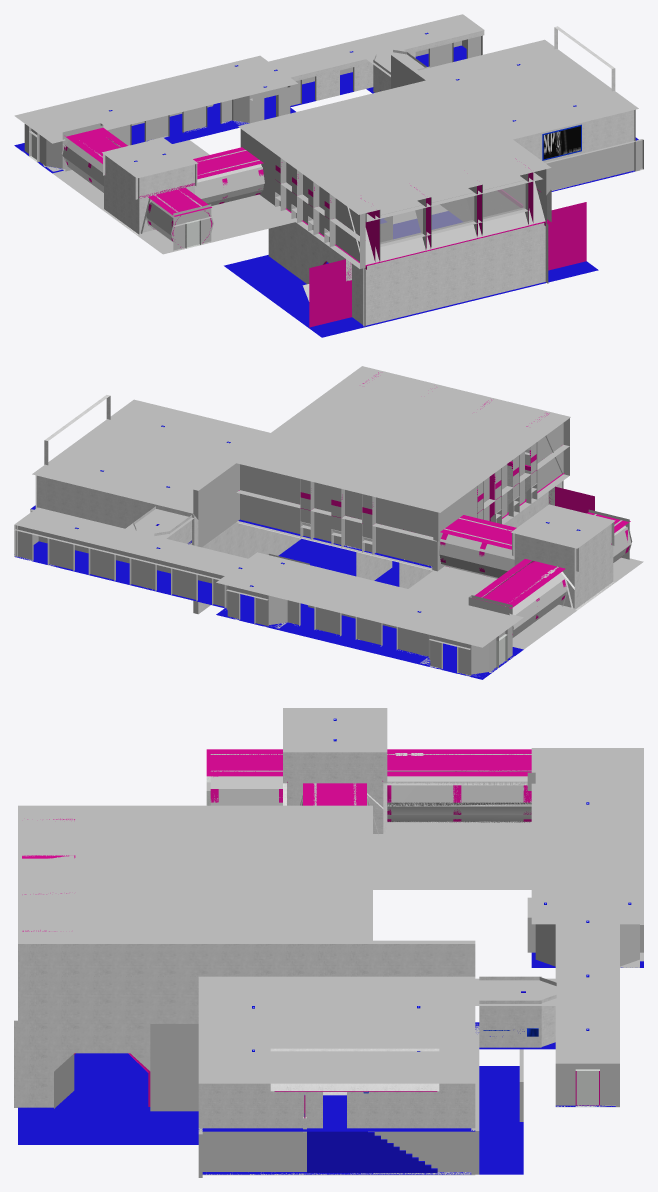
The model's file is chamber173_top.fbx.
The picture shows the model from 3 angles, top to bottom: view 1: azimuth 30°, elevation 25°; view 2: azimuth 150°, elevation 25°; view 3: azimuth 270°, elevation 25°; orthographic projection. The views are drawn at different scales.
Visible parts, largest first — view 1: default; view 2: default; view 3: default.
Boxes of the visible parts, box(x1,y1,x2,y2) form: default: box(14, 14, 643, 337); default: box(14, 366, 643, 679); default: box(14, 708, 643, 1177).
Size of the model in its own units: 4849 by 1130 by 3768.
